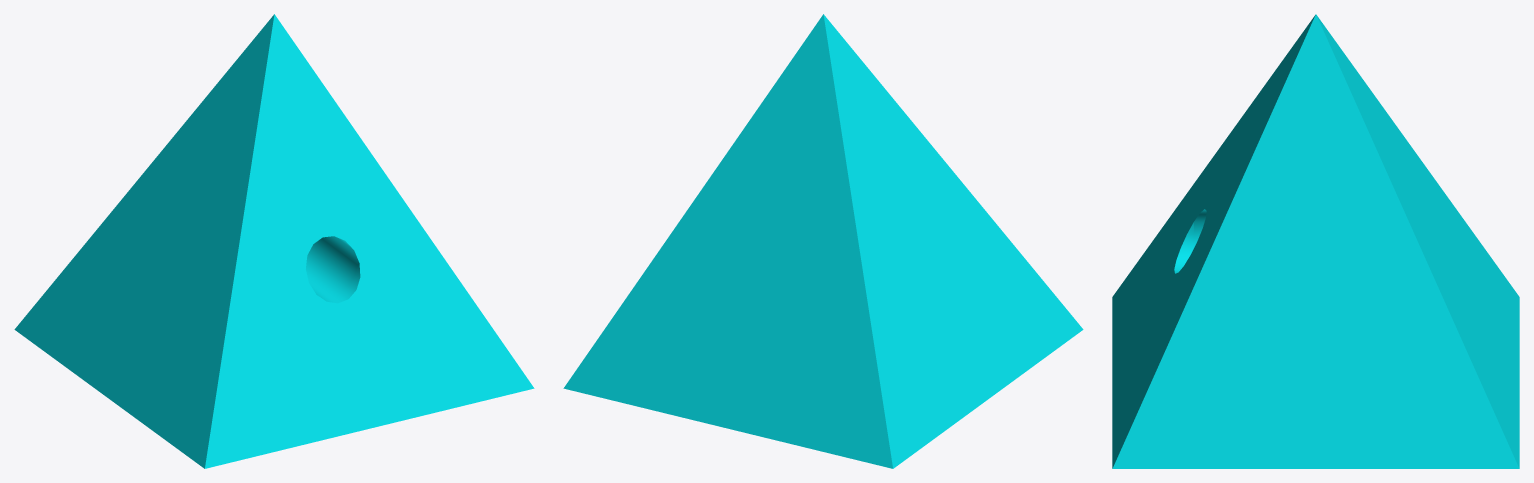
File: piramide-transparente.glb
3 renders of one model, left to right at view 1: azimuth 30°, elevation 25°; view 2: azimuth 150°, elevation 25°; view 3: azimuth 270°, elevation 25°, orthographic. The views are drawn at different scales.
Parts seen in each view (by area): view 1: Carcasa; view 2: Carcasa; view 3: Carcasa.
Boxes of the visible parts, x1,y1,x2,y2 form: Carcasa: (14,14,534,468); Carcasa: (563,14,1083,468); Carcasa: (1112,14,1519,468).
Bounding box in the file's own units: 0.635 × 0.635 × 0.635.
